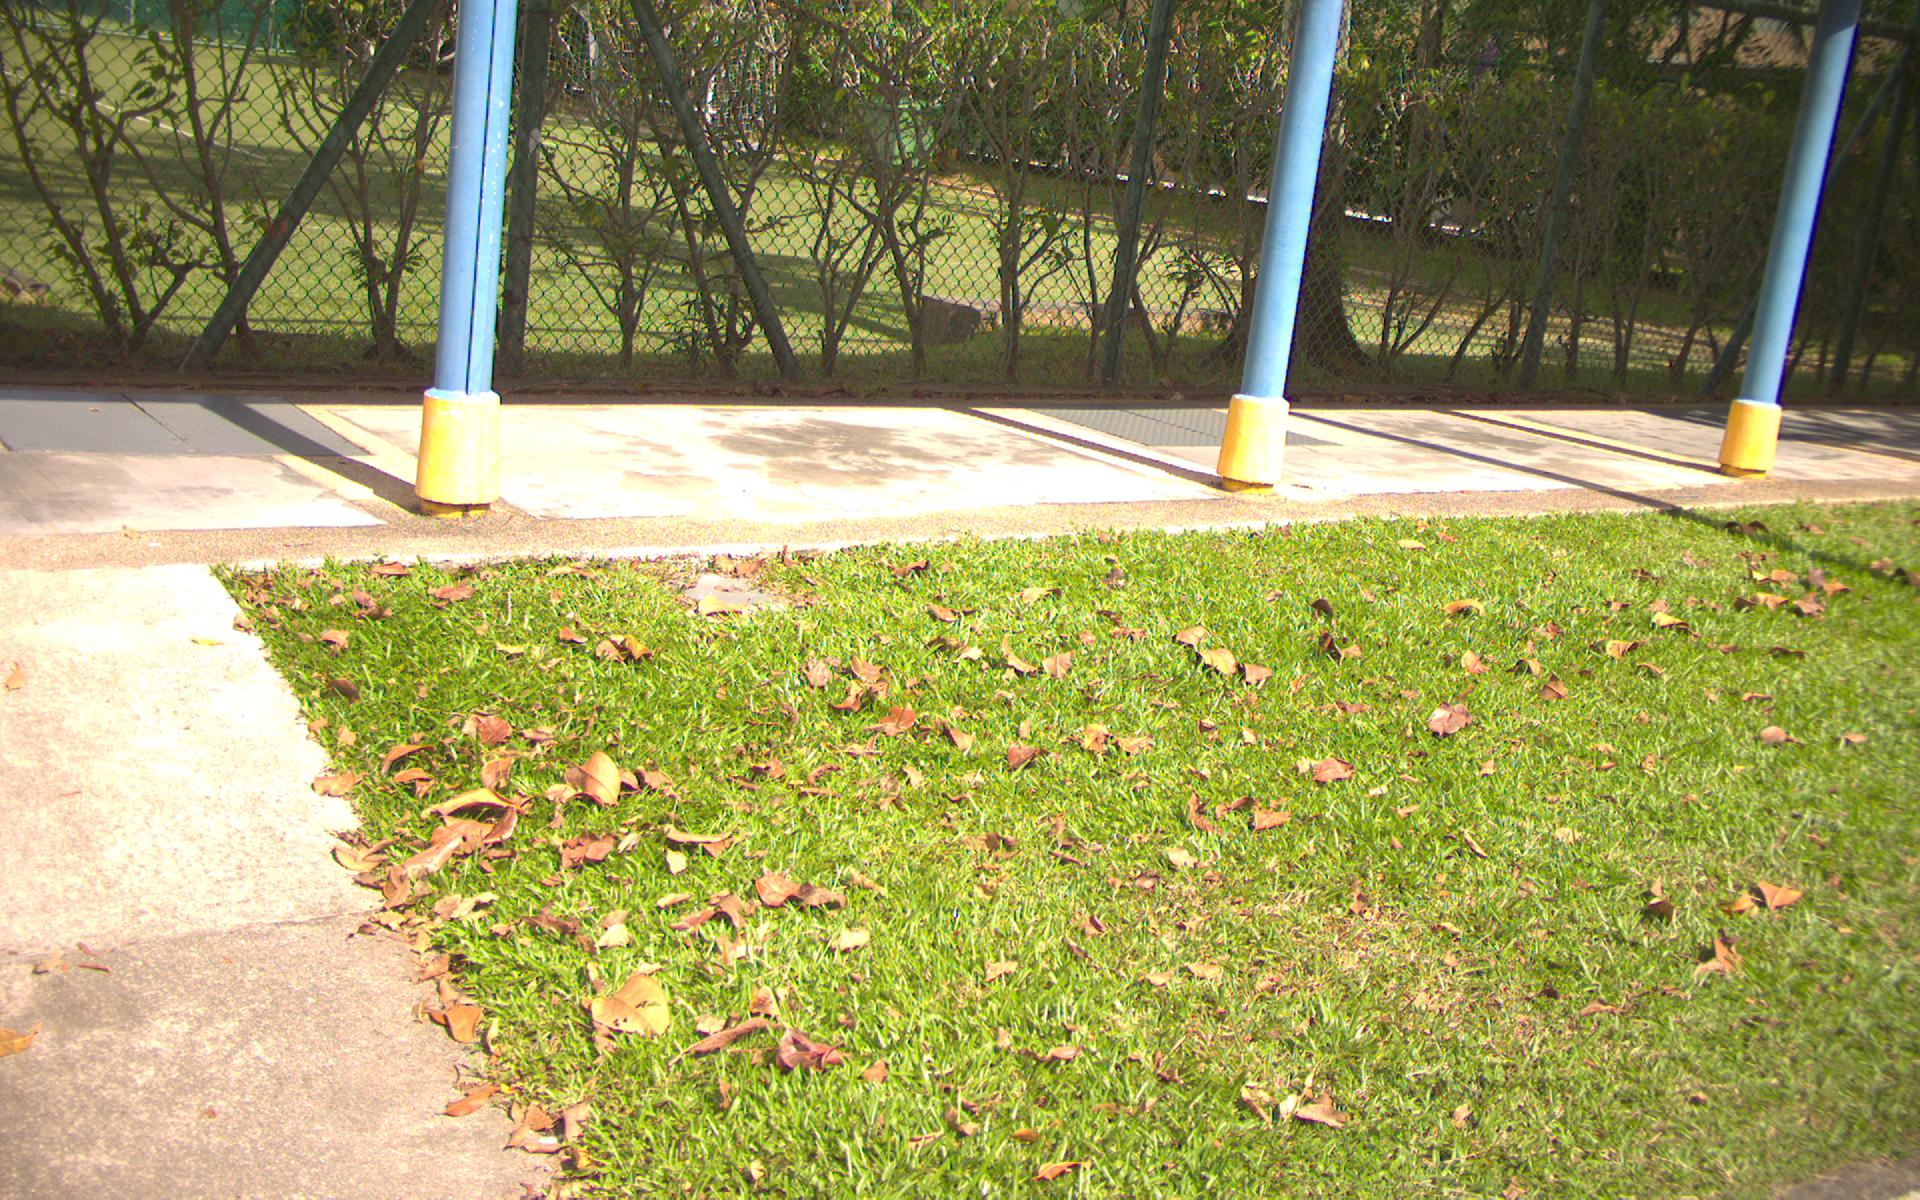pathway_low: (4, 405, 1919, 487)
road_turf_low: (608, 559, 1920, 1176)
